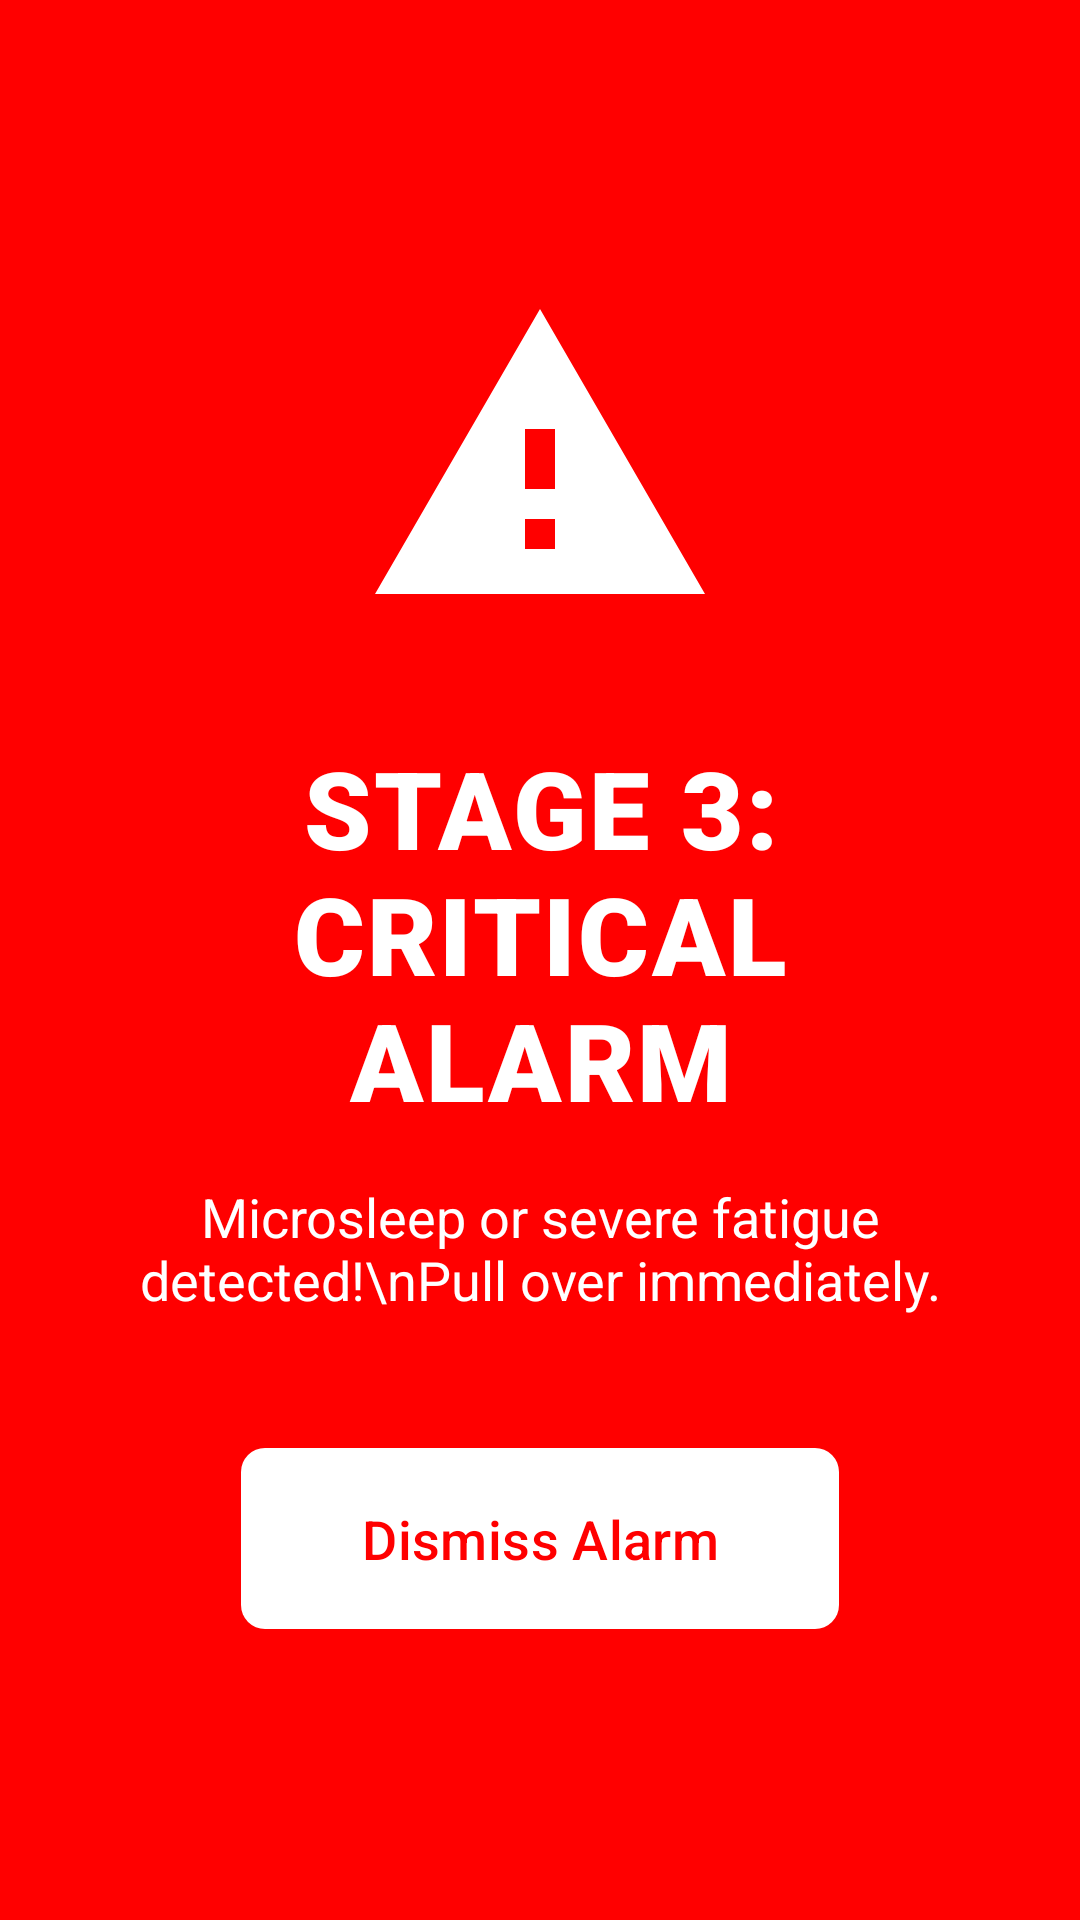

Named icons in this screenshot (1080x1920) and their centers, [x,y]:
Emergency alert: [540,451]
